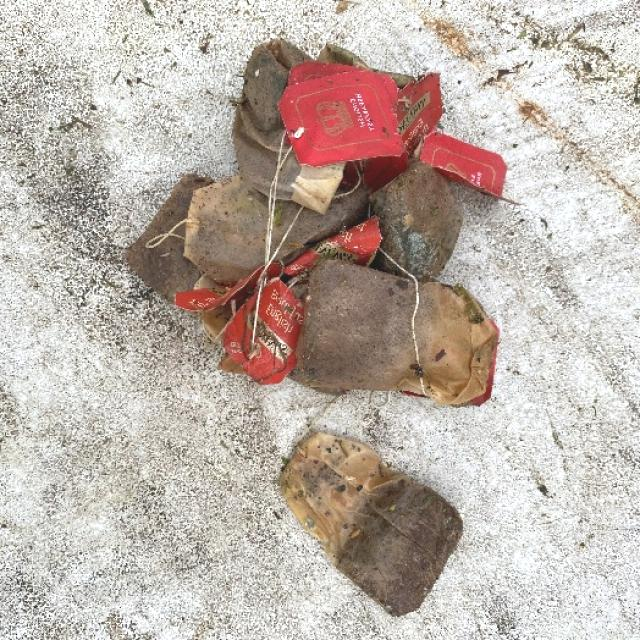wet: (276, 430, 464, 616), (401, 321, 499, 406)
